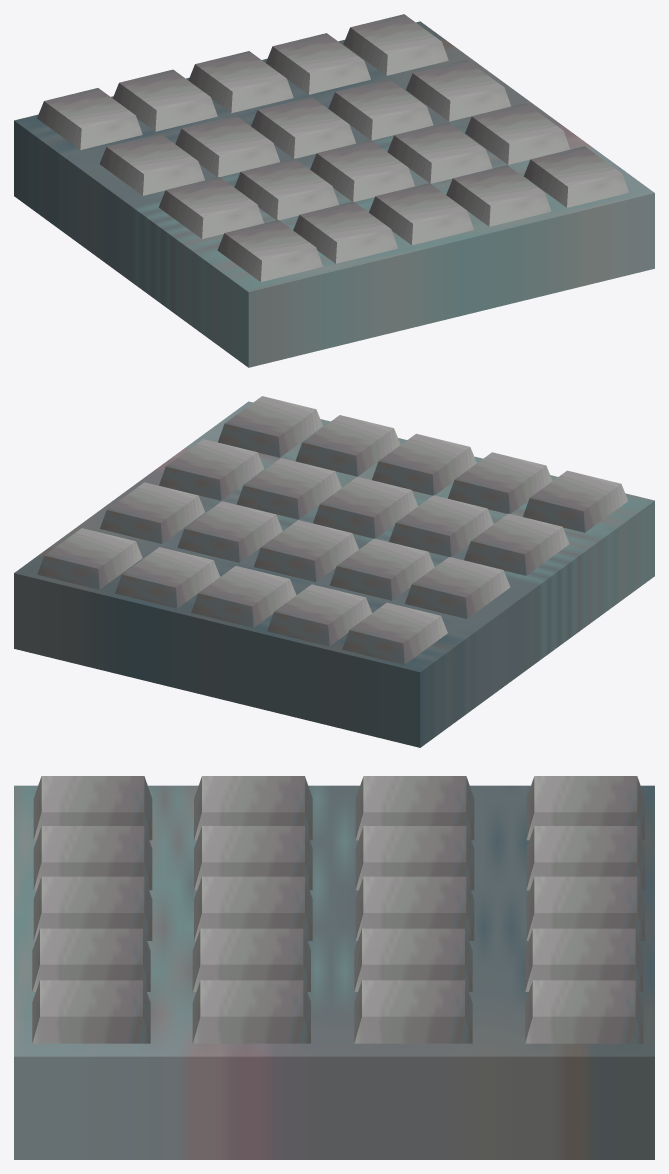
File: 834f06bf-62e3-4879-9579-eebef5d14aa9.glb
3 views of the same model, one above another, from view 1: azimuth 30°, elevation 25°; view 2: azimuth 150°, elevation 25°; view 3: azimuth 270°, elevation 25° (orthographic). The views are drawn at different scales.
Visible parts, largest first — view 1: CommandCenterLikeControlsCamera; view 2: CommandCenterLikeControlsCamera; view 3: CommandCenterLikeControlsCamera.
Boxes of the visible parts, x1,y1,x2,y2 form: CommandCenterLikeControlsCamera: (14,14,654,367); CommandCenterLikeControlsCamera: (14,396,654,747); CommandCenterLikeControlsCamera: (14,776,654,1159).
Size of what is drawn, in the model's own units: 0.5847 by 0.1294 by 0.5847.
Materials: 1 (1 with a texture image).
